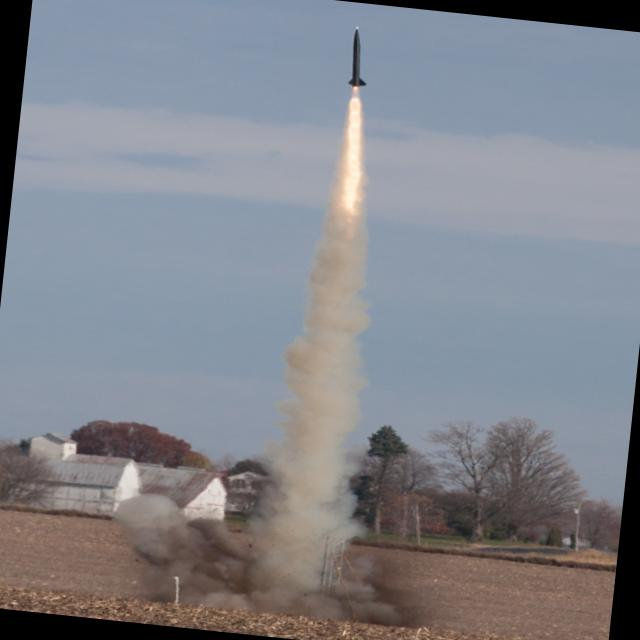rocket: (327, 17, 382, 250)
